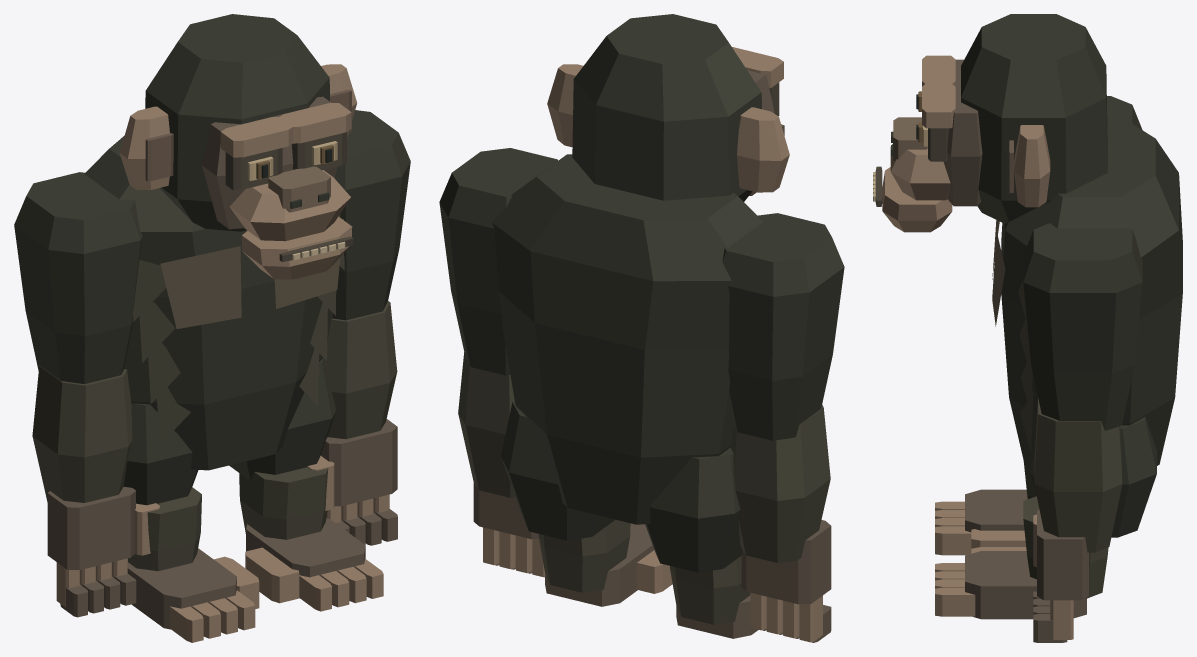
File: chimp.glb
3 views of the same model, side by side, from view 1: azimuth 30°, elevation 25°; view 2: azimuth 150°, elevation 25°; view 3: azimuth 270°, elevation 25° (orthographic). The views are drawn at different scales.
Visible parts, largest first — view 1: Chimp_torso, Chimp_upper_arm_L, Cranium, Chimp_upper_arm_R, Chimp_forearm_L, Chimp_forearm_R, Chimp_palm_L, Chimp_shin_R, Chest_plane, Chimp_thigh_L, Chimp_palm_R, Foot (+35 smaller); view 2: Chimp_torso, Cranium, Chimp_upper_arm_L, Chimp_upper_arm_R, Chimp_forearm_L, Chimp_thigh_L, Chimp_thigh_R, Chimp_forearm_R, Chimp_palm_L, Chimp_shin_R, Ear.002, Chimp_shin_L (+13 smaller); view 3: Chimp_torso, Cranium, Chimp_upper_arm_R, Chimp_forearm_R, Foot.001, Chimp_thigh_R, Chimp_palm_R, Face_mask, Ear.003, Foot, Lower_jaw, Muzzle (+12 smaller).
Boxes of the visible parts, bbox=[...] form: Chimp_torso: bbox=[84, 135, 335, 470]; Chimp_upper_arm_L: bbox=[14, 172, 142, 384]; Cranium: bbox=[145, 14, 329, 231]; Chimp_upper_arm_R: bbox=[332, 110, 410, 320]; Chimp_forearm_L: bbox=[32, 365, 132, 502]; Chimp_forearm_R: bbox=[325, 301, 397, 439]; Chimp_palm_L: bbox=[47, 487, 135, 569]; Chimp_shin_R: bbox=[239, 467, 328, 539]; Chest_plane: bbox=[160, 246, 241, 328]; Chimp_thigh_L: bbox=[124, 403, 198, 505]; Chimp_palm_R: bbox=[320, 419, 397, 506]; Foot: bbox=[127, 548, 236, 629]; Chimp_torso: bbox=[492, 154, 762, 524]; Cranium: bbox=[572, 14, 761, 201]; Chimp_upper_arm_L: bbox=[722, 213, 844, 440]; Chimp_upper_arm_R: bbox=[439, 148, 557, 375]; Chimp_forearm_L: bbox=[730, 404, 830, 562]; Chimp_thigh_L: bbox=[645, 447, 742, 572]; Chimp_thigh_R: bbox=[501, 400, 614, 540]; Chimp_forearm_R: bbox=[458, 352, 515, 497]; Chimp_palm_L: bbox=[741, 520, 831, 604]; Chimp_shin_R: bbox=[538, 519, 630, 592]; Ear.002: bbox=[737, 107, 789, 192]; Chimp_shin_L: bbox=[670, 556, 750, 624]; Chimp_torso: bbox=[1001, 117, 1182, 466]; Cranium: bbox=[961, 14, 1107, 223]; Chimp_upper_arm_R: bbox=[1023, 223, 1142, 430]; Chimp_forearm_R: bbox=[1034, 398, 1122, 552]; Foot.001: bbox=[965, 551, 1086, 619]; Chimp_thigh_R: bbox=[1029, 417, 1156, 537]; Chimp_palm_R: bbox=[1037, 509, 1088, 600]; Face_mask: bbox=[943, 59, 982, 206]; Ear.003: bbox=[1014, 125, 1050, 207]; Foot: bbox=[965, 489, 1027, 532]; Lower_jaw: bbox=[882, 167, 952, 232]; Muzzle: bbox=[890, 143, 950, 200].
Size of the model in its own units: 1.58 by 2.27 by 1.19.
